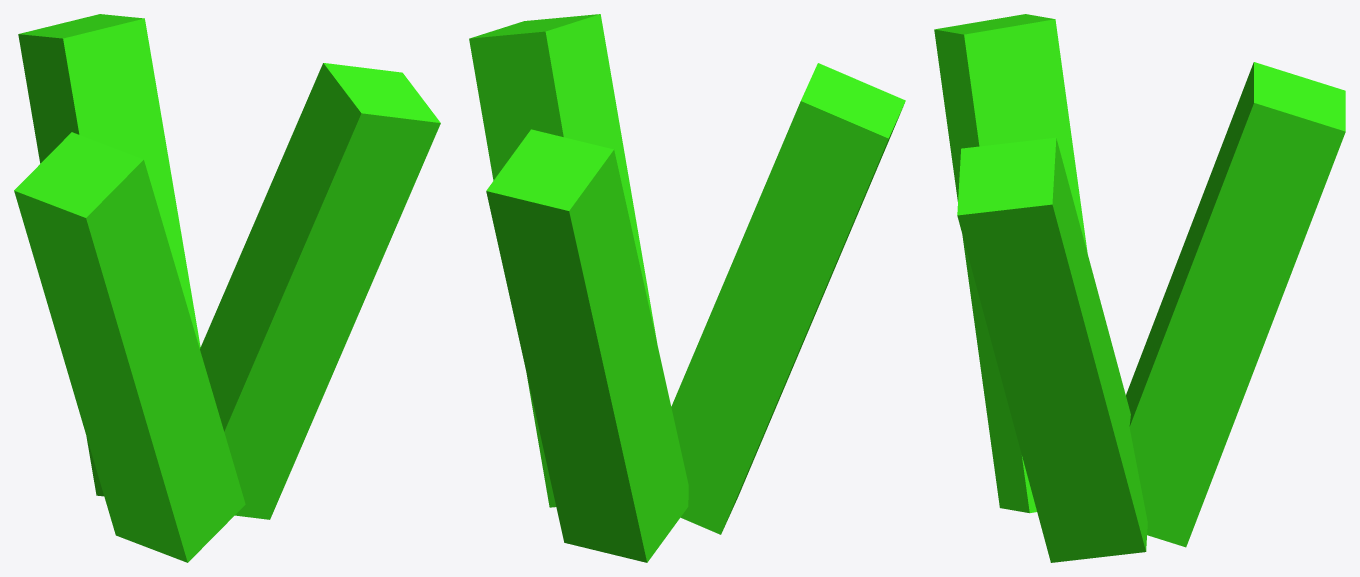
Rendered from grass_3.fbx.
The picture shows the model from 3 angles, left to right: view 1: azimuth 30°, elevation 25°; view 2: azimuth 150°, elevation 25°; view 3: azimuth 270°, elevation 25°; orthographic projection. The views are drawn at different scales.
Visible parts, largest first — view 1: Cube.083; view 2: Cube.083; view 3: Cube.083.
Part boxes in pixels (x1,y1,x2,y2): Cube.083: (14,14,440,562); Cube.083: (469,14,905,562); Cube.083: (934,14,1345,562).
Bounding box in the file's own units: 98.09 × 103 × 84.78.
